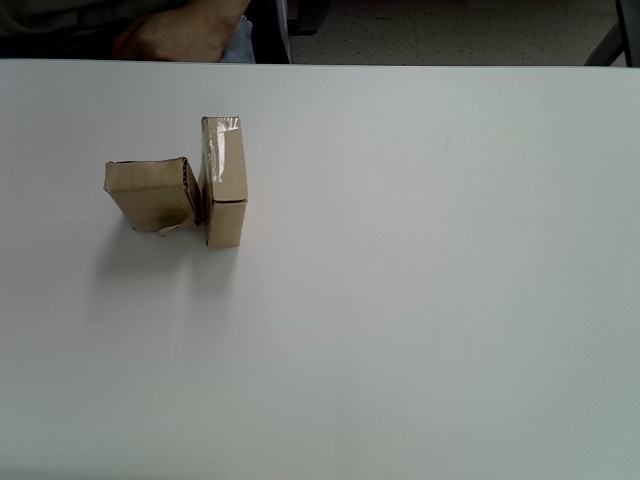defect: (104, 158, 199, 236)
normal: (198, 114, 249, 248)
